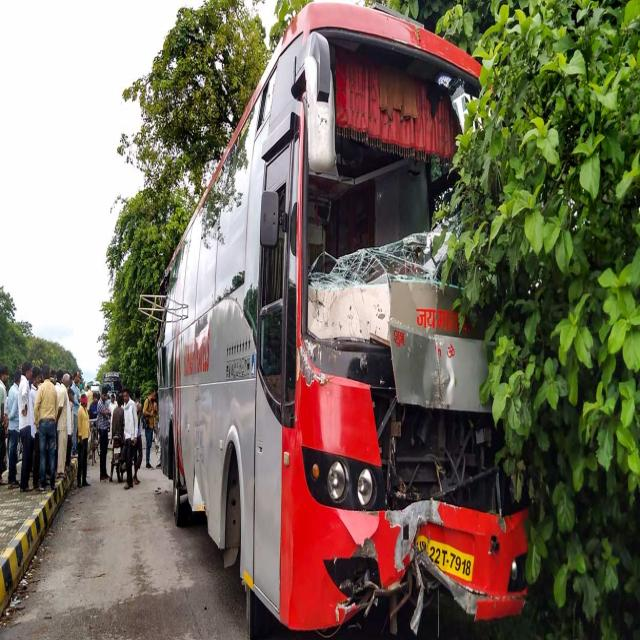accident: (158, 5, 529, 631)
